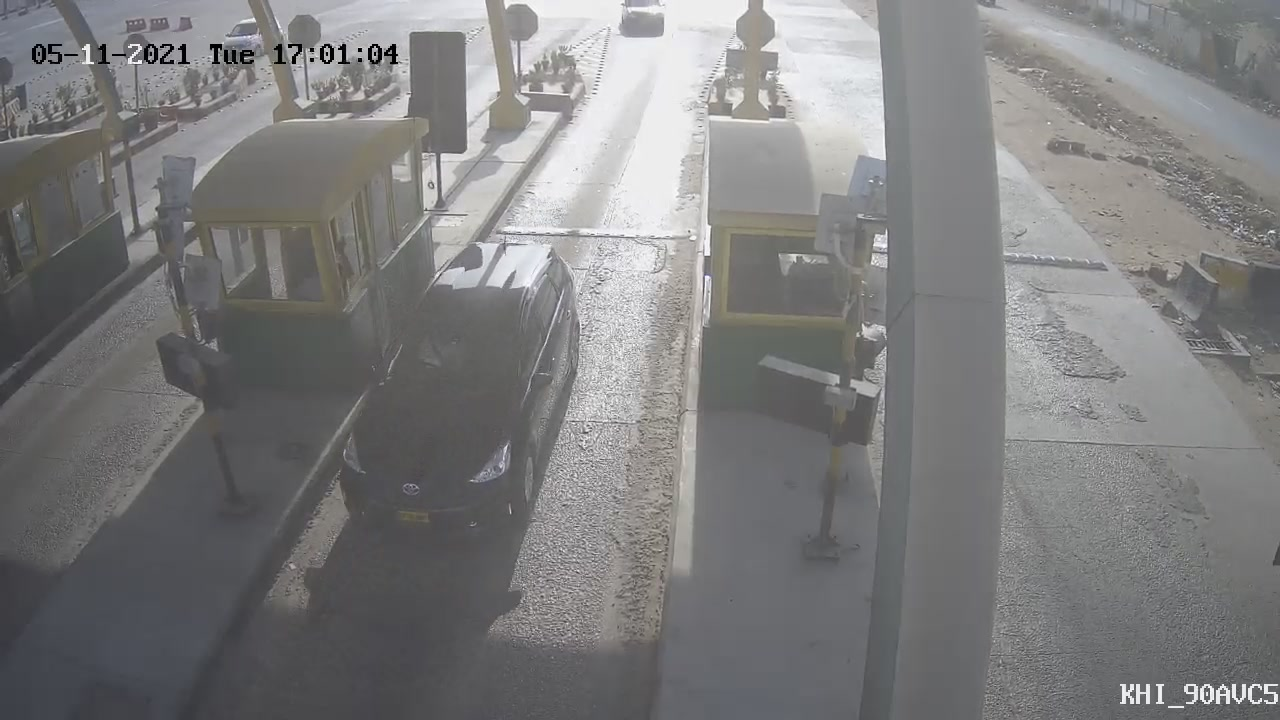F1: (308, 212, 608, 573)
